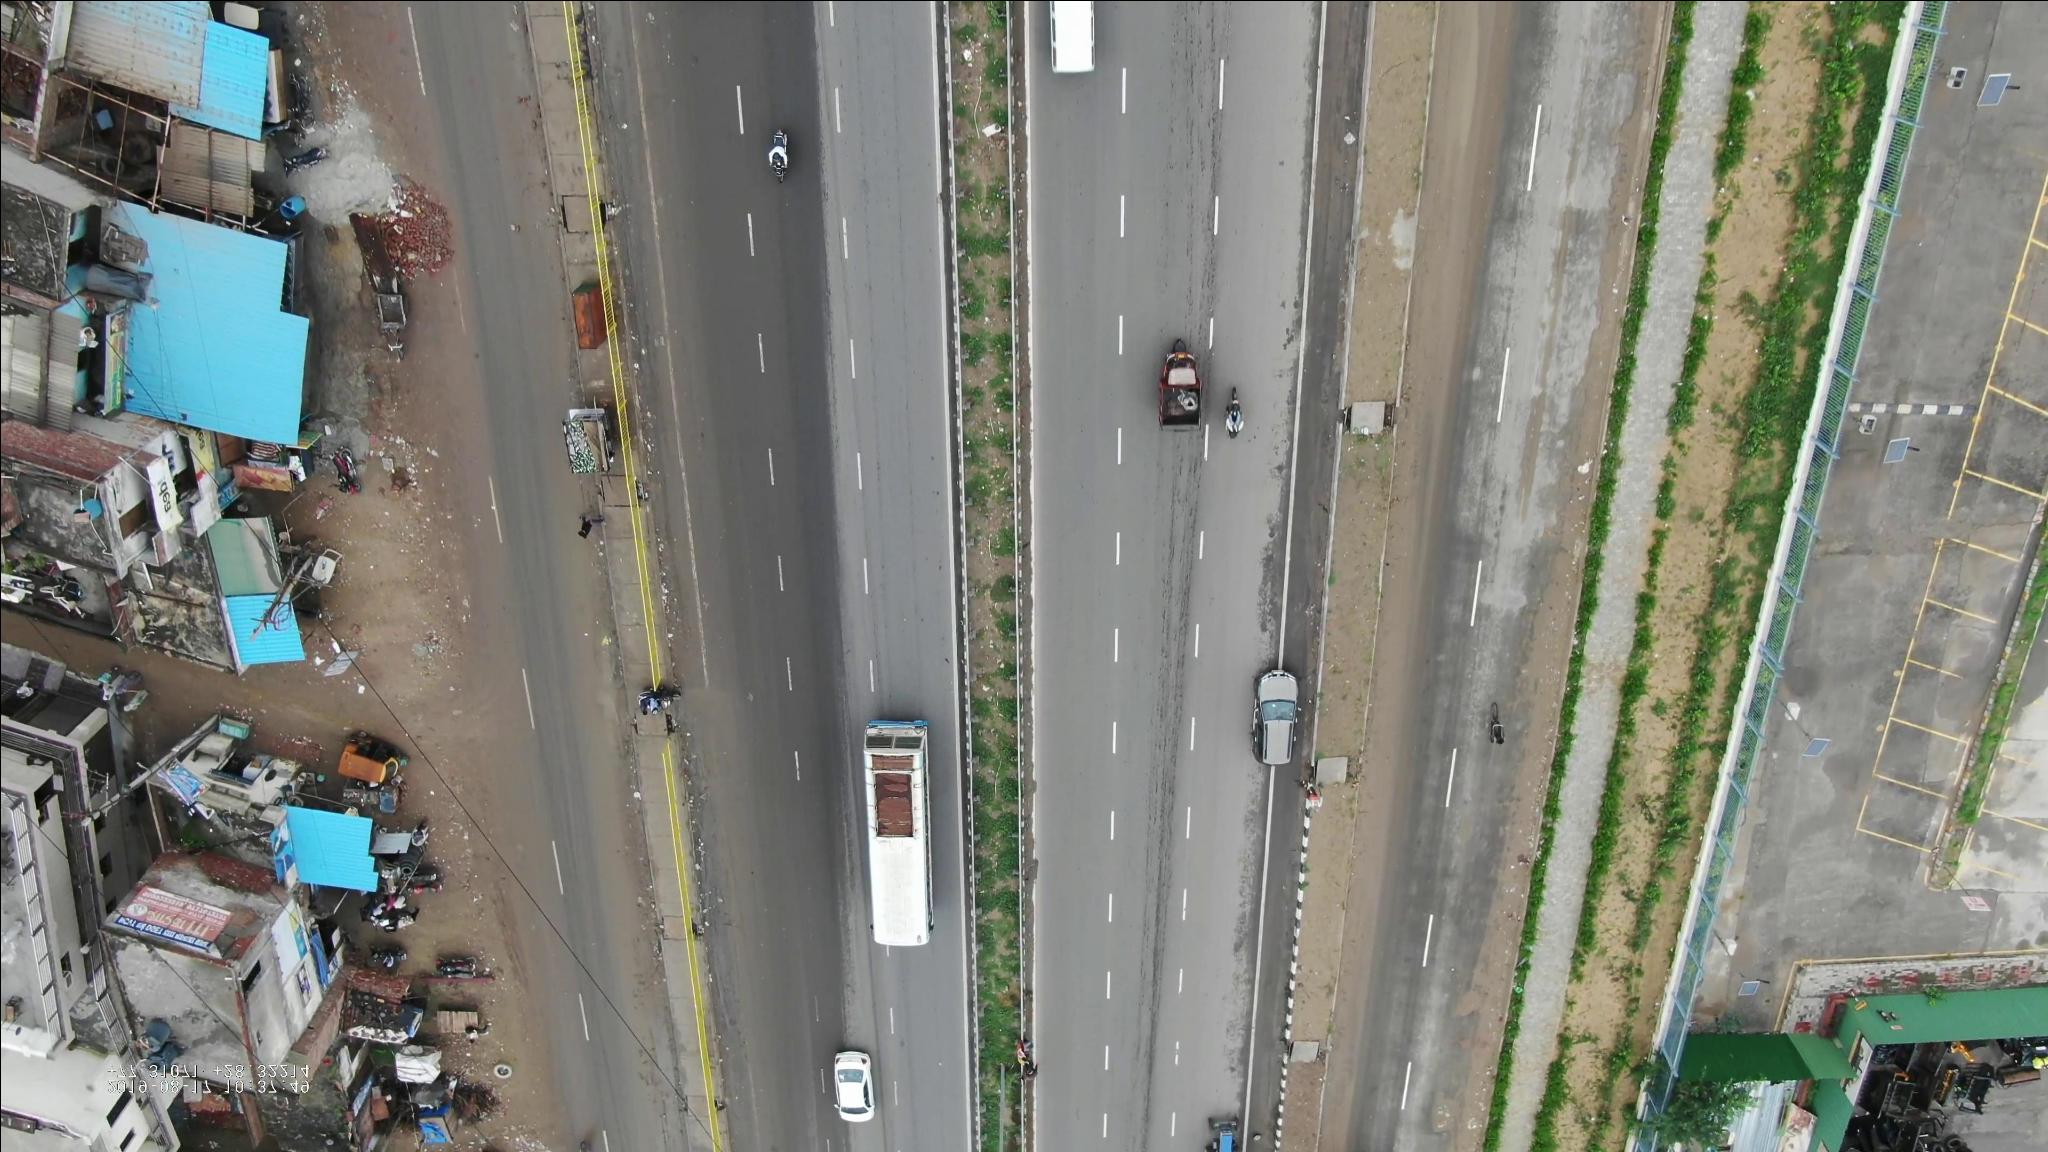Muddy_road: (564, 682, 660, 980), (1321, 824, 1405, 1139), (1419, 21, 1519, 262), (1357, 518, 1435, 807), (689, 675, 755, 994), (1394, 279, 1484, 501)
Ravelling: (1163, 21, 1234, 271), (1108, 935, 1184, 1151), (1149, 475, 1210, 700), (1137, 729, 1189, 911)
